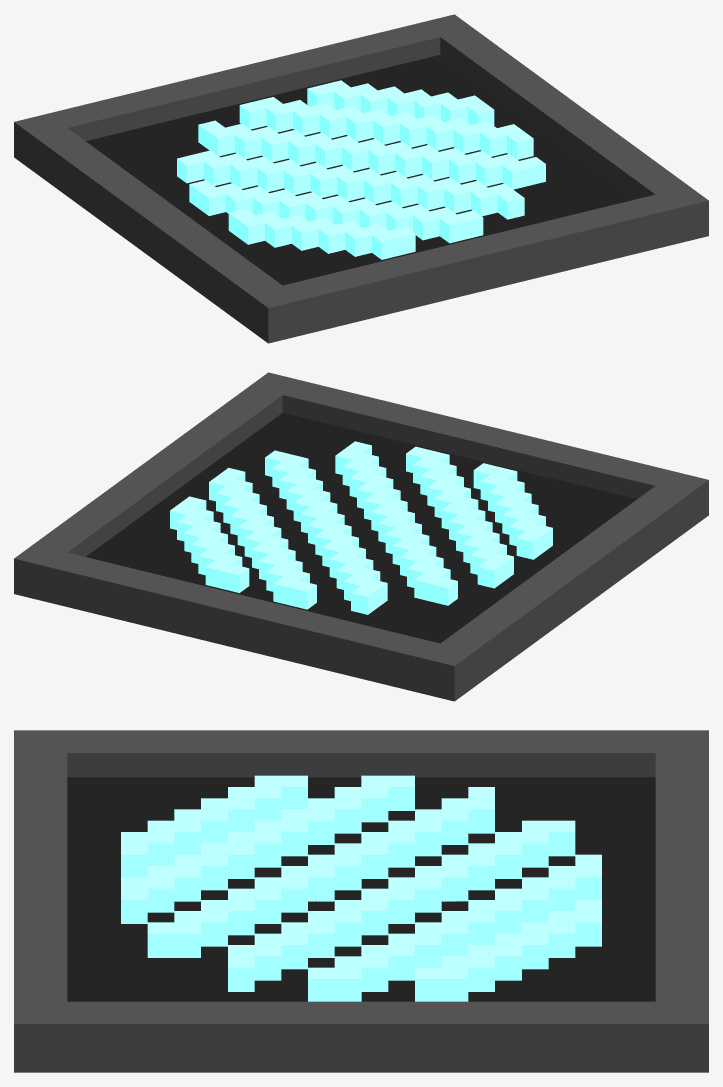
The model's file is trap_GRILL_TEAL.glb.
The picture shows the model from 3 angles, top to bottom: view 1: azimuth 30°, elevation 25°; view 2: azimuth 150°, elevation 25°; view 3: azimuth 270°, elevation 25°; orthographic projection. The views are drawn at different scales.
Parts seen in each view (by area): view 1: item_TRAP_GRILL_TEAL; view 2: item_TRAP_GRILL_TEAL; view 3: item_TRAP_GRILL_TEAL.
Boxes of the visible parts, x1,y1,x2,y2 form: item_TRAP_GRILL_TEAL: (14,14,708,343); item_TRAP_GRILL_TEAL: (14,372,708,701); item_TRAP_GRILL_TEAL: (14,730,708,1072).
Bounding box in the file's own units: 0.5909 × 0.0455 × 0.5909.
1 material, 1 textured.
